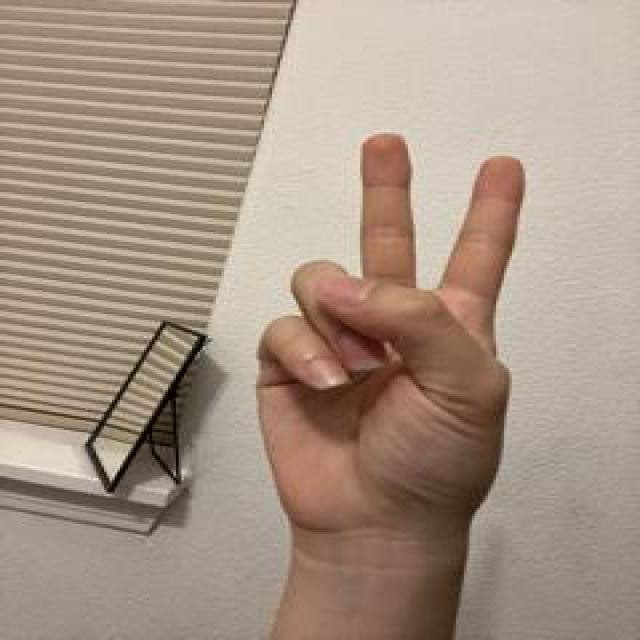V: (250, 132, 530, 542)
